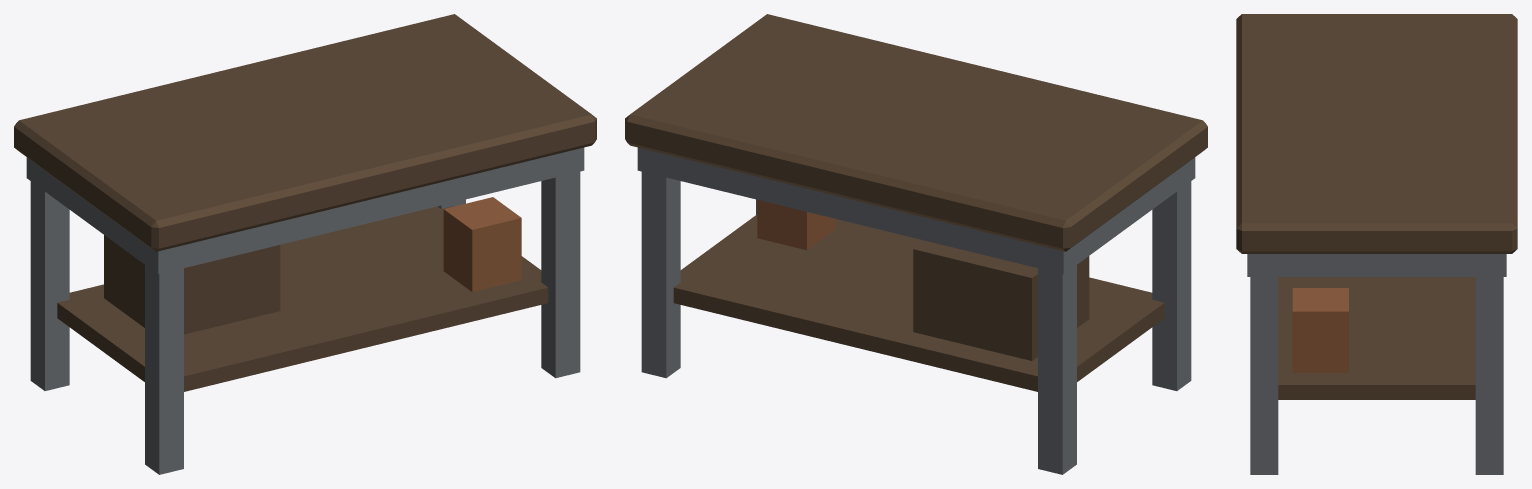
The model's file is table.glb.
The picture shows the model from 3 angles, left to right: view 1: azimuth 30°, elevation 25°; view 2: azimuth 150°, elevation 25°; view 3: azimuth 270°, elevation 25°; orthographic projection.
Visible parts, largest first — view 1: top, shelf, frame, crate, leg_0, leg_1, leg_2, tin; view 2: top, shelf, frame, crate, leg_2, leg_3, leg_0, tin; view 3: top, shelf, frame, leg_1, leg_3, tin.
Boxes of the visible parts, x1,y1,x2,y2 form: top: [14, 14, 596, 251]; shelf: [57, 206, 548, 391]; frame: [26, 147, 584, 274]; crate: [104, 235, 280, 334]; leg_0: [145, 265, 183, 474]; leg_1: [541, 171, 580, 378]; leg_2: [30, 181, 69, 390]; tin: [443, 197, 521, 291]; top: [625, 14, 1207, 251]; shelf: [673, 214, 1164, 391]; frame: [637, 147, 1195, 274]; crate: [913, 240, 1089, 360]; leg_2: [1038, 265, 1076, 474]; leg_3: [641, 171, 680, 378]; leg_0: [1152, 181, 1191, 390]; tin: [757, 200, 835, 250]; top: [1236, 14, 1517, 253]; shelf: [1278, 277, 1475, 399]; frame: [1247, 254, 1506, 276]; leg_1: [1250, 277, 1278, 474]; leg_3: [1475, 277, 1503, 474]; tin: [1292, 288, 1348, 372].
Size of the model in its own units: 0.9 by 0.5 by 0.5.
